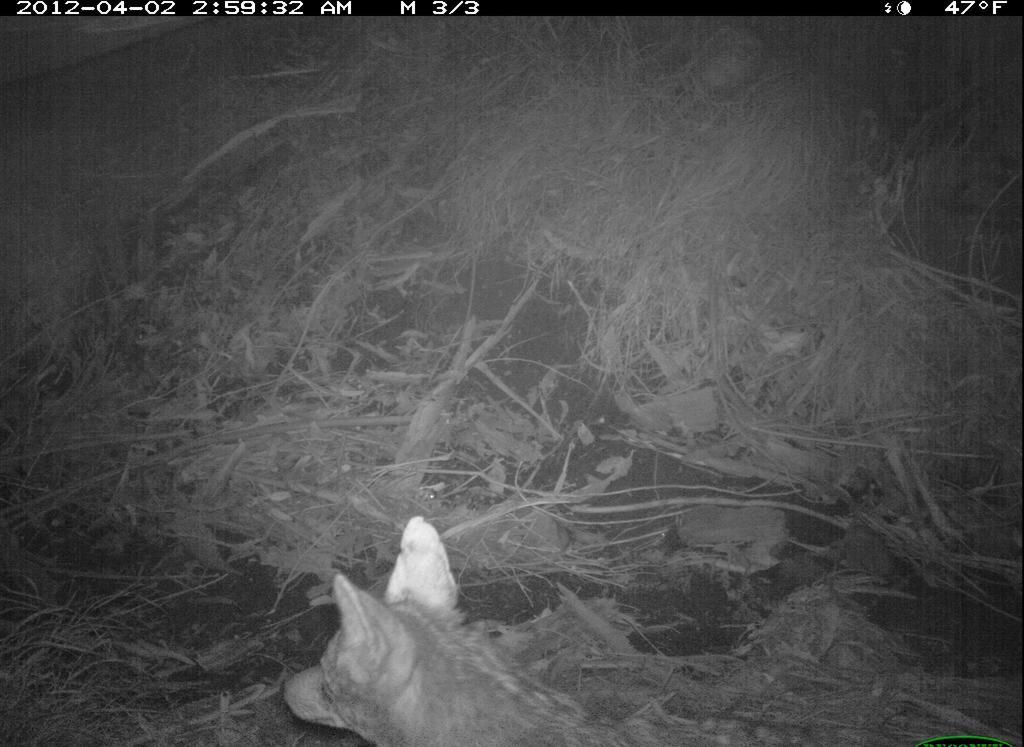coyote: (278, 509, 617, 740)
